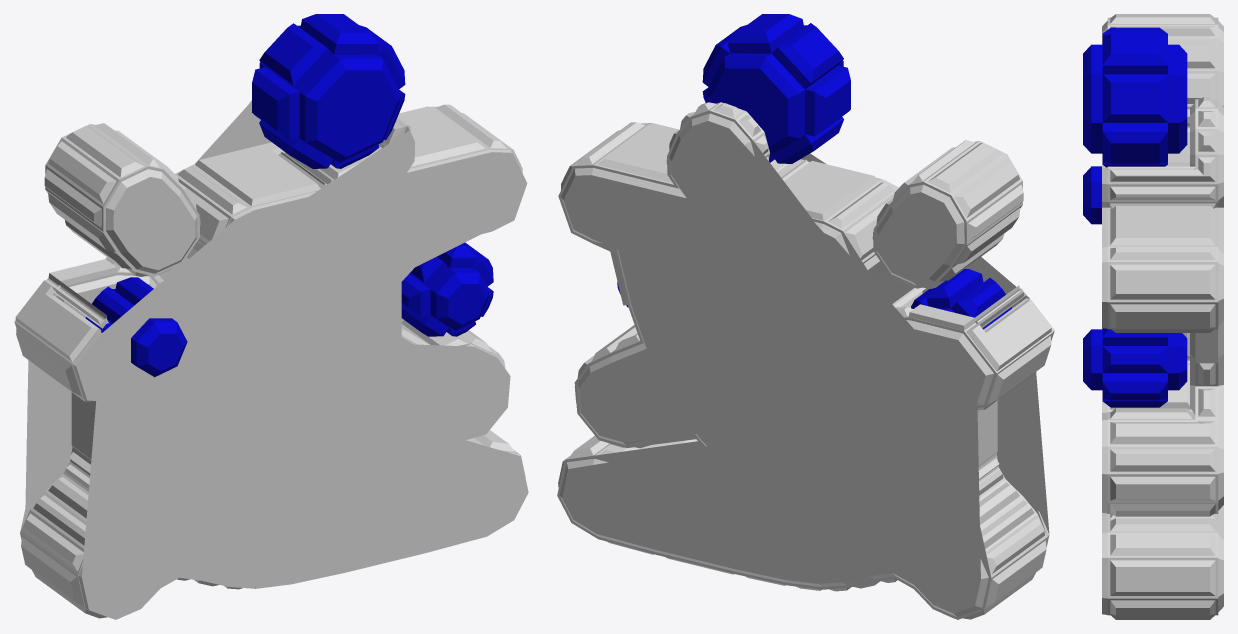
Rendered from Ch_China_这_01.fbx.
The picture shows the model from 3 angles, left to right: view 1: azimuth 30°, elevation 25°; view 2: azimuth 150°, elevation 25°; view 3: azimuth 270°, elevation 25°; orthographic projection. The views are drawn at different scales.
Visible parts, largest first — view 1: sphere1; view 2: sphere1; view 3: sphere1.
Part boxes in pixels (left/top/right/bottom): sphere1: left=14, top=14, right=528, bottom=619; sphere1: left=557, top=14, right=1054, bottom=619; sphere1: left=1083, top=14, right=1223, bottom=619.
Bounding box in the file's own units: 0.9166 × 1.03 × 0.2541.
